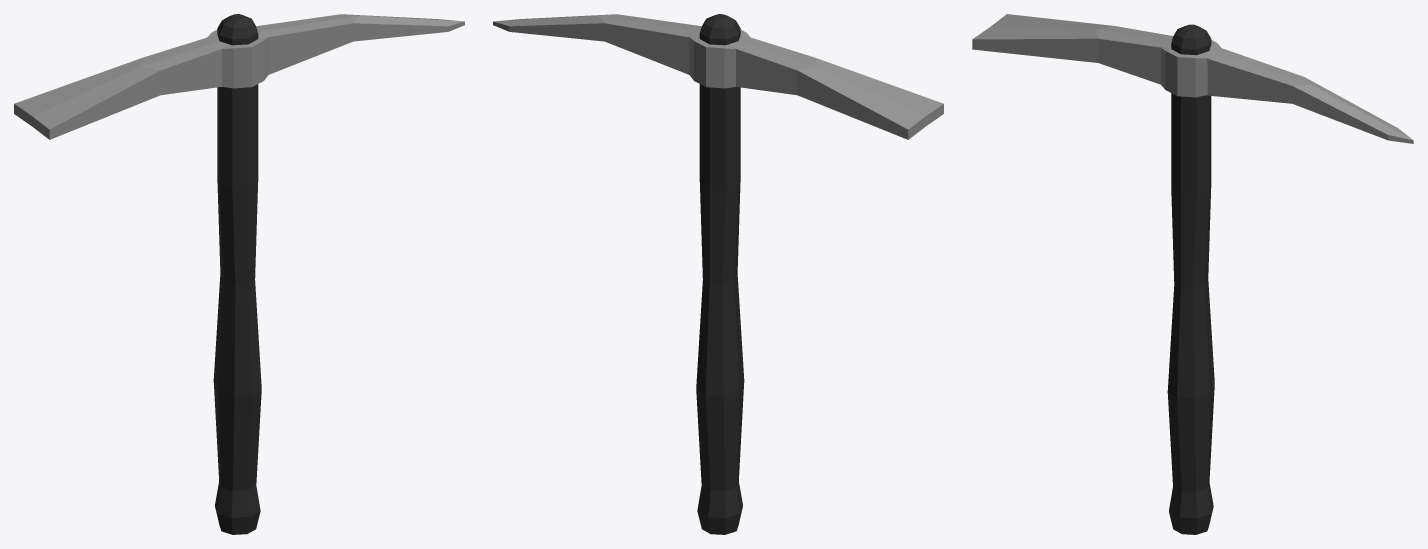
The model's file is StandardPick.fbx.
3 views of the same model, side by side, from view 1: azimuth 30°, elevation 25°; view 2: azimuth 150°, elevation 25°; view 3: azimuth 330°, elevation 25° (orthographic). The views are drawn at different scales.
Parts seen in each view (by area): view 1: Cylinder.001; view 2: Cylinder.001; view 3: Cylinder.001.
Boxes of the visible parts, left/top/right/bottom form: Cylinder.001: left=14, top=14, right=464, bottom=534; Cylinder.001: left=493, top=14, right=943, bottom=534; Cylinder.001: left=972, top=14, right=1413, bottom=534.
Bounding box in the file's own units: 111 × 125 × 15.78.
